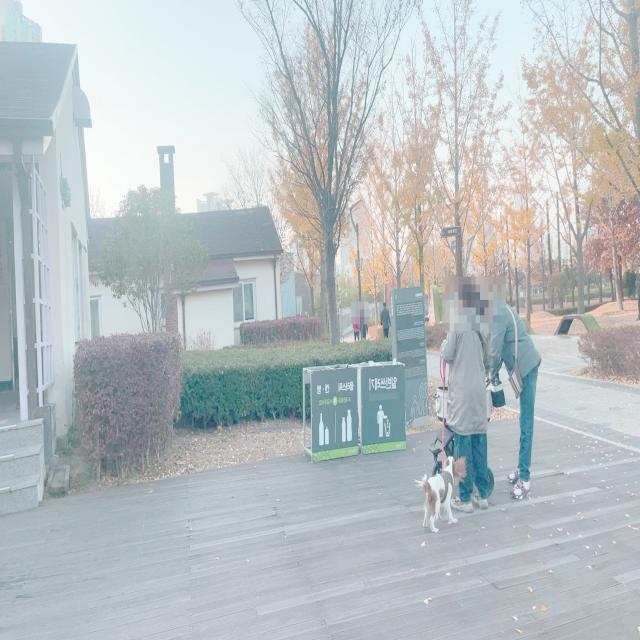Leashed_Dog: (413, 336, 467, 535)
